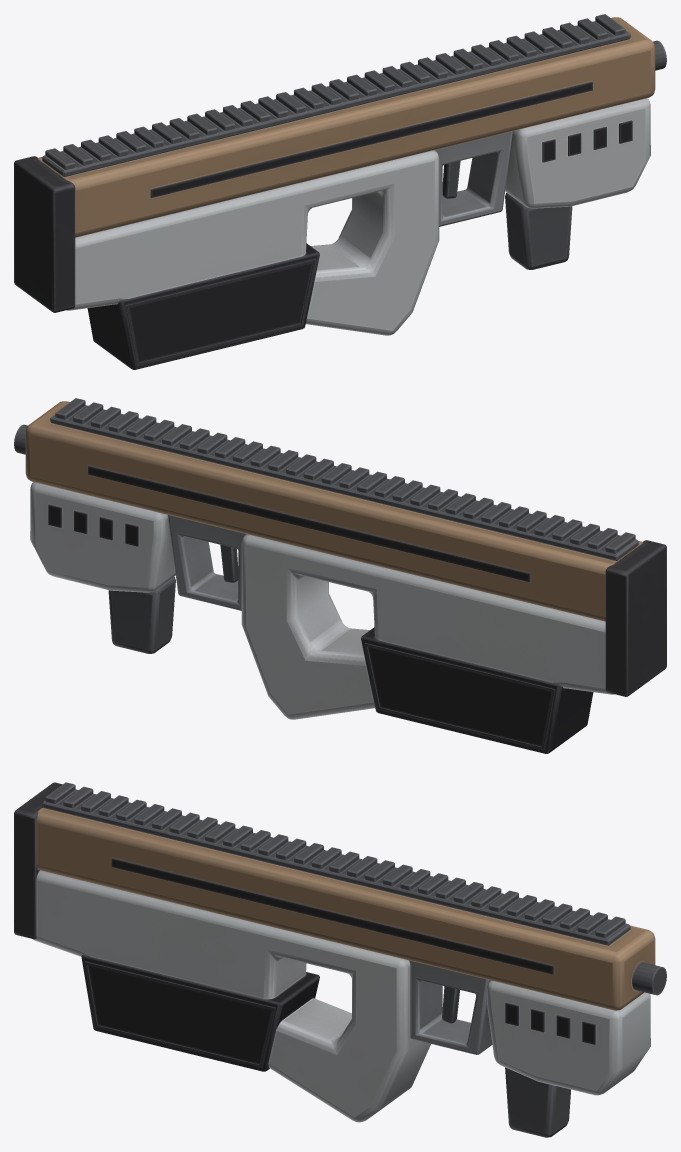
File: AT_FNSAR.fbx
3 views of the same model, one above another, from view 1: azimuth 30°, elevation 25°; view 2: azimuth 150°, elevation 25°; view 3: azimuth 330°, elevation 25° (orthographic).
Parts seen in each view (by area): view 1: AT_FNSAR; view 2: AT_FNSAR; view 3: AT_FNSAR.
Part boxes in pixels (x1,y1,x2,y2): AT_FNSAR: (14, 14, 666, 369); AT_FNSAR: (14, 398, 666, 753); AT_FNSAR: (14, 782, 666, 1137).
Size of the model in its own units: 0.34 by 0.1267 by 0.0392.
Materials: 1 (1 with a texture image).
